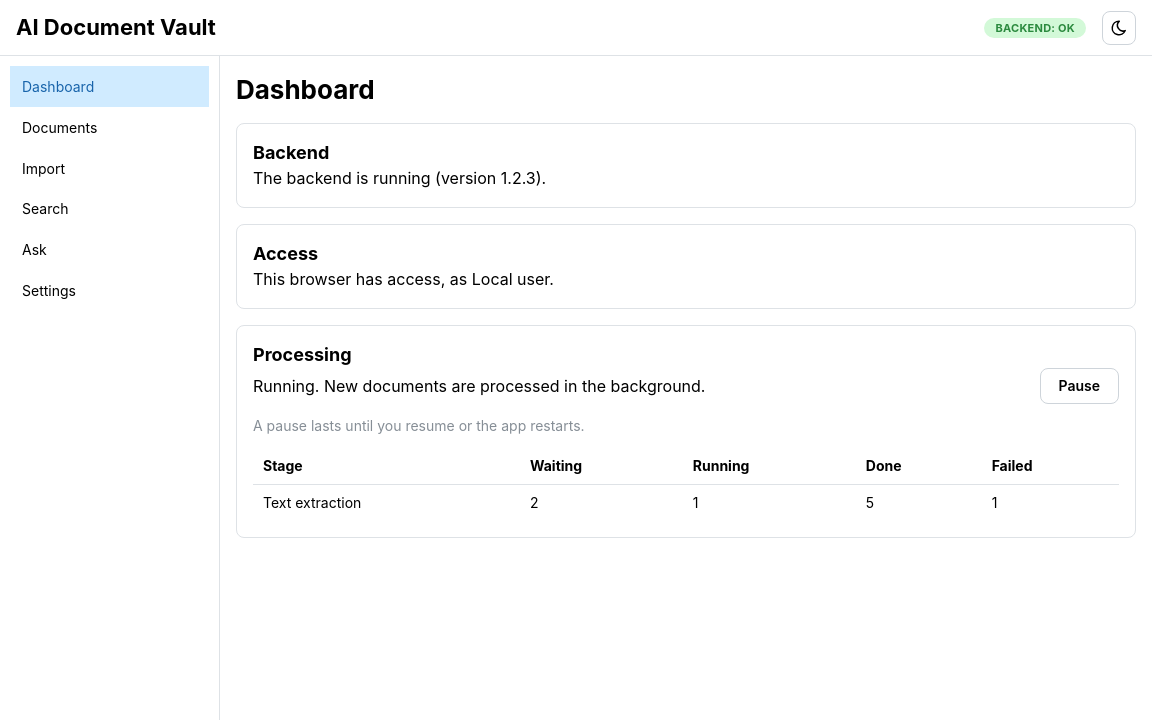
Test: processing on the dashboard › loads the status again when a pause gets no answer
Click the button "Pause": (1079,386) 1040,368 -> 1119,404
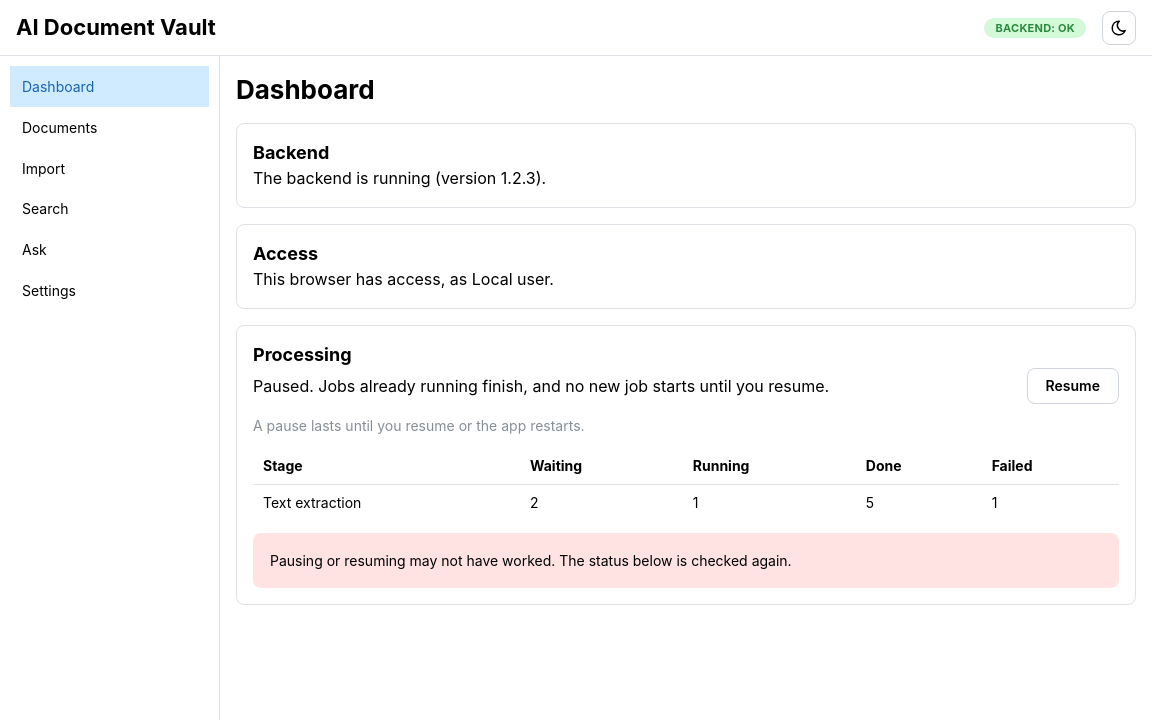
expect the text "Pausing or resuming may not have worked. The status below is checked again." is shown: met, box 270,552 -> 792,569
expect the text "Paused. Jobs already running finish, and no new job starts until you resume." is shown: met, box 253,374 -> 829,398
